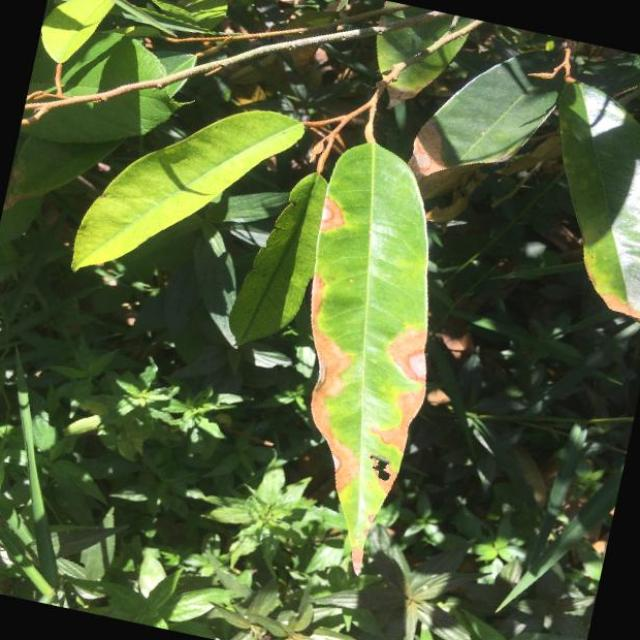Leaf Blight: (241, 129, 483, 585)
